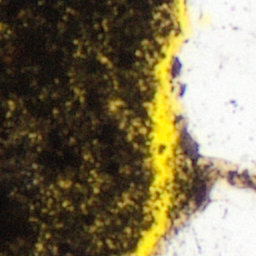cement_matrix: (0, 0, 173, 255), (171, 136, 209, 215)
cracks: (131, 0, 255, 255), (170, 135, 210, 216)
gravel_crushed_stones: (175, 0, 255, 174), (159, 180, 255, 255)
